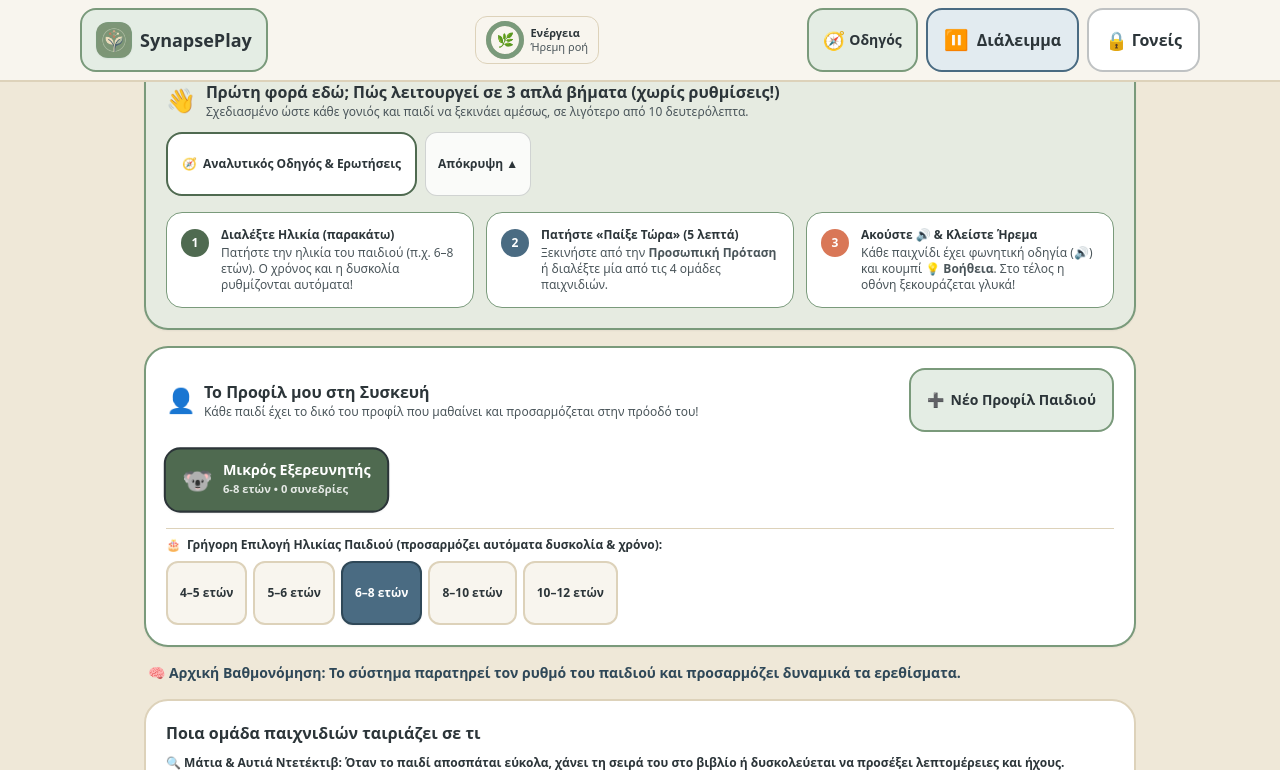
Scenario: Comprehensive Enrichment Suite (A-ST): Dynamic Gate, Age Adaptation, 8 Disciplines, Invisible Scenarios, Speech & OT Games › Modern Greek Grammar & Vocative Case (Κλητική Πτώση): inflects child names and companion titles accurately in Hub and Completion screens
(page scrolled)
Click the button with test id "open-create-profile-btn": (1012, 400) [909,368,1114,432]
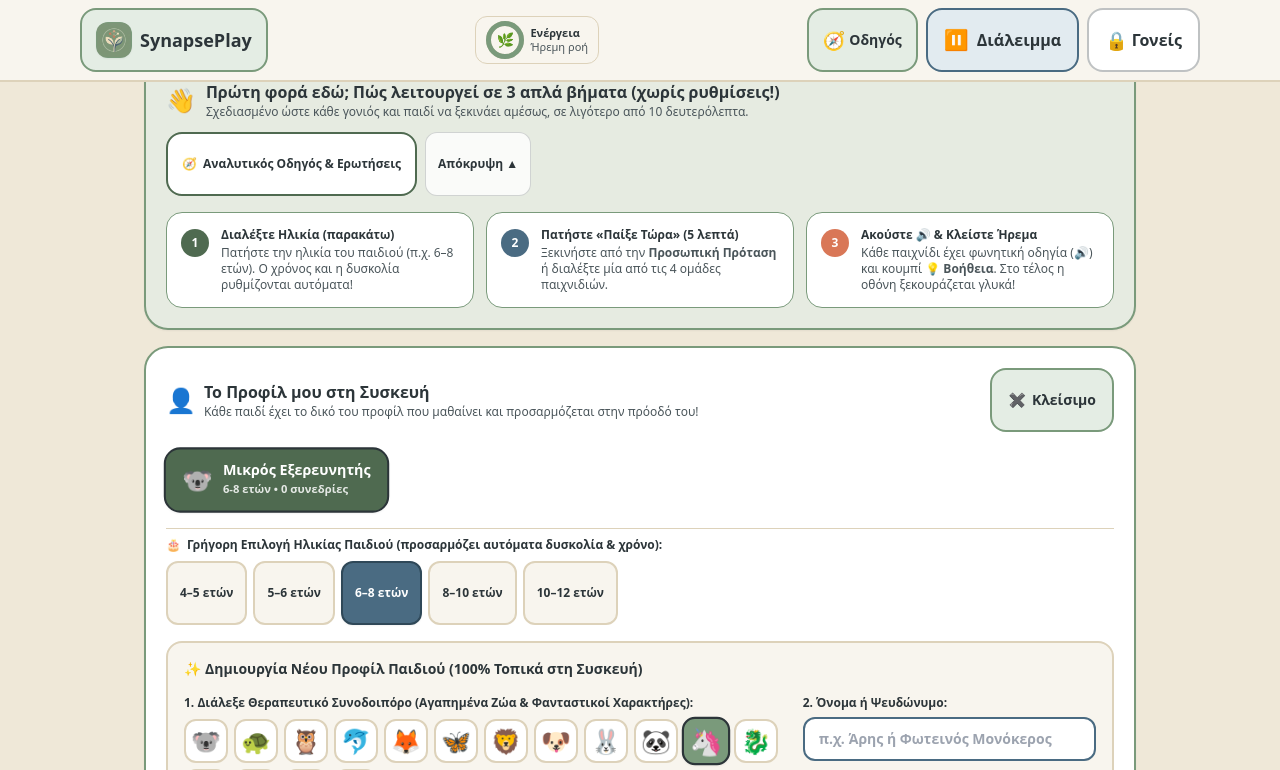
In the field with test id "new-profile-name-input": (949, 739) [803,717,1096,761], type "Γιώργος"
(page scrolled)
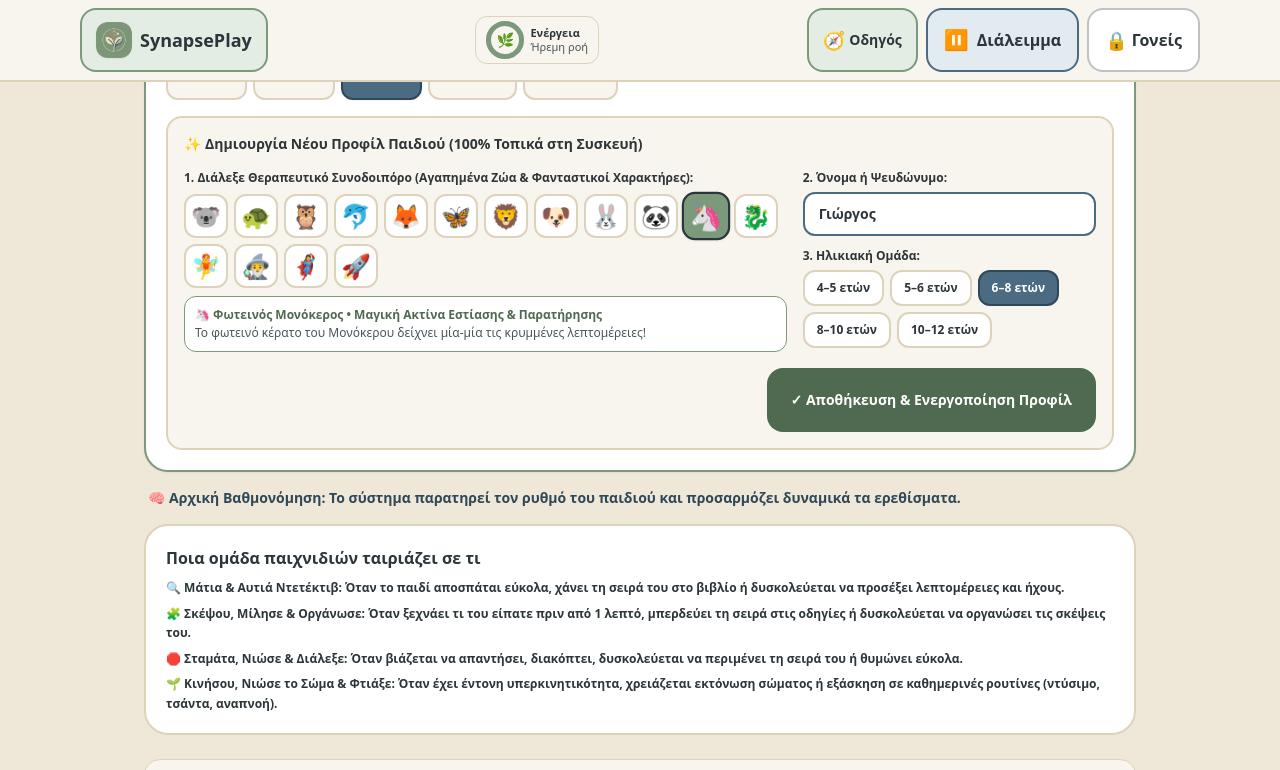
Click the button with test id "submit-create-profile-btn": (931, 400) [766,368,1096,432]
(page scrolled)
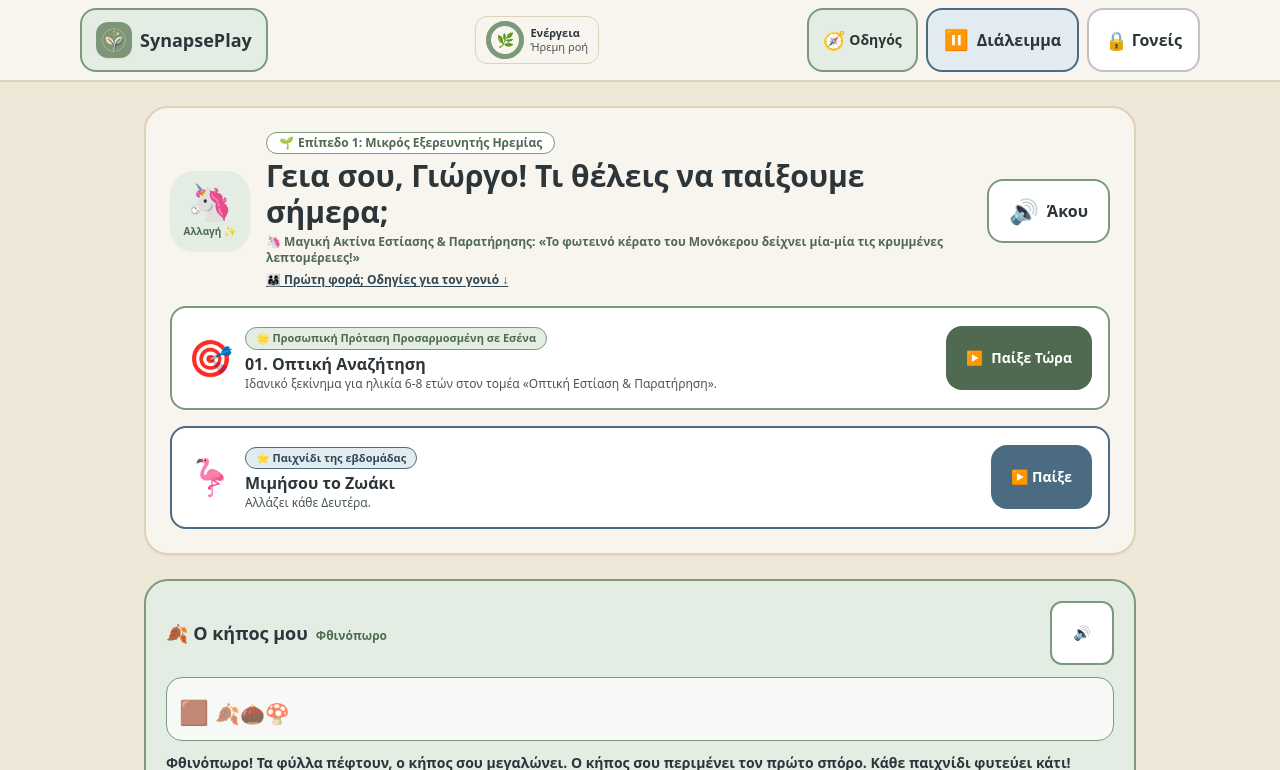
Expected: the heading "Γεια σου, Γιώργο! Τι θέλεις να παίξουμε σήμερα;" is shown, [266,155,864,232]
